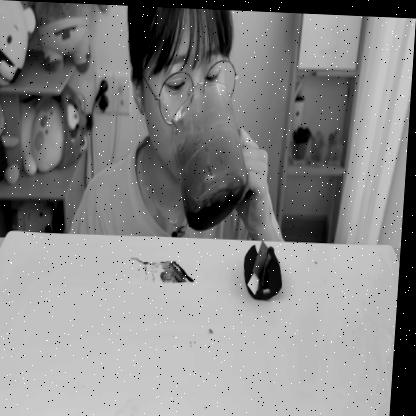streamer: (72, 3, 300, 239)
